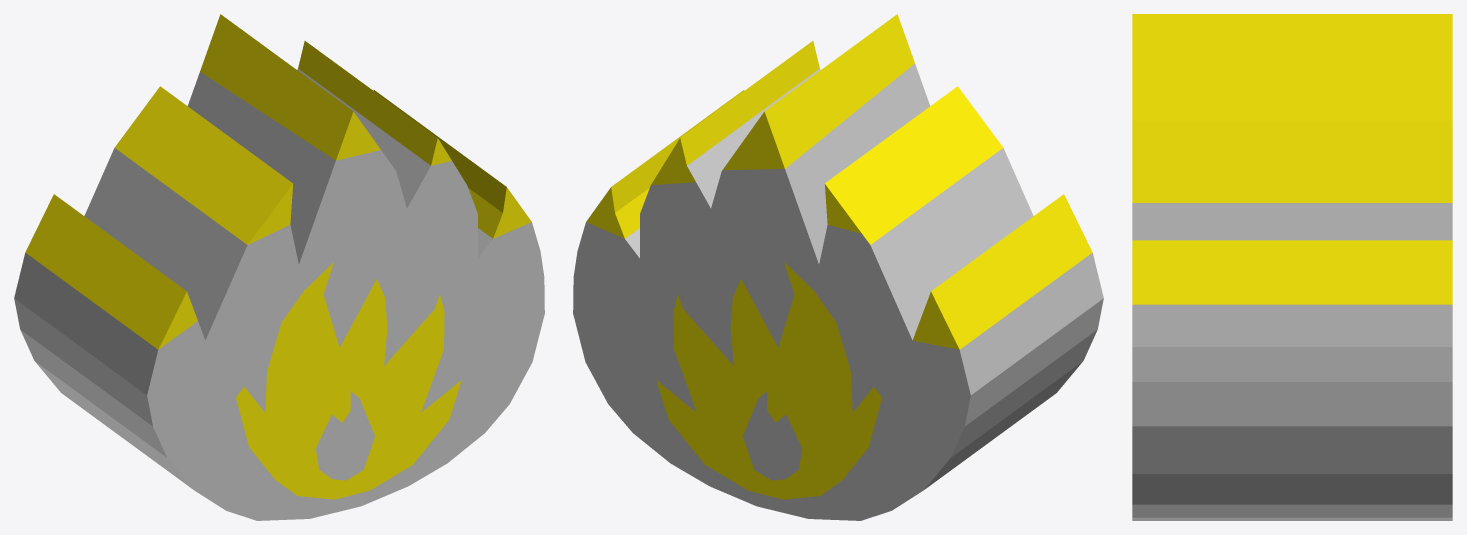
Rendered from HerramientaFuego2.FBX.
3 views of the same model, side by side, from view 1: azimuth 30°, elevation 25°; view 2: azimuth 150°, elevation 25°; view 3: azimuth 270°, elevation 25° (orthographic). The views are drawn at different scales.
Visible parts, largest first — view 1: Box002; view 2: Box002; view 3: Box002.
Part boxes in pixels (x1,y1,x2,y2): Box002: (14,14,544,520); Box002: (573,14,1103,520); Box002: (1132,14,1452,520).
Bounding box in the file's own units: 34.53 × 32.92 × 20.
